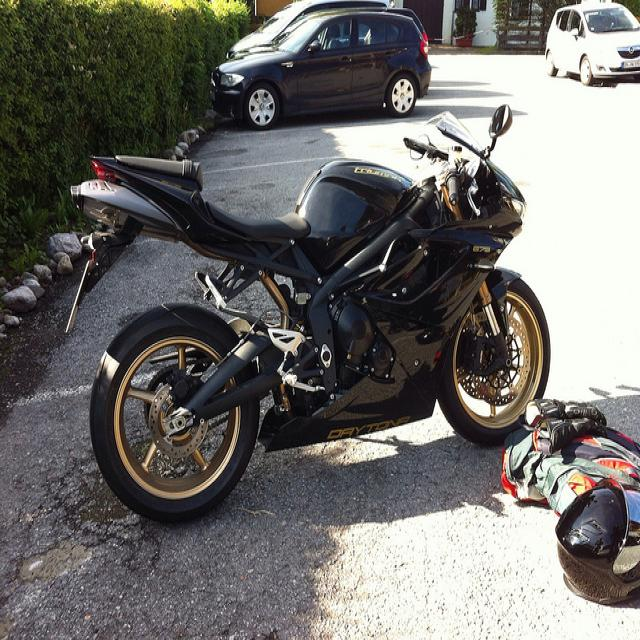motor: (63, 98, 555, 529)
